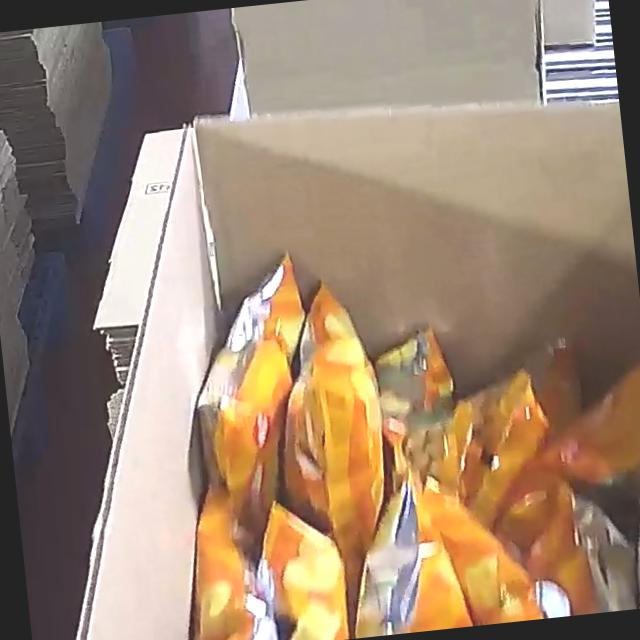cheese: (86, 214, 640, 640)
